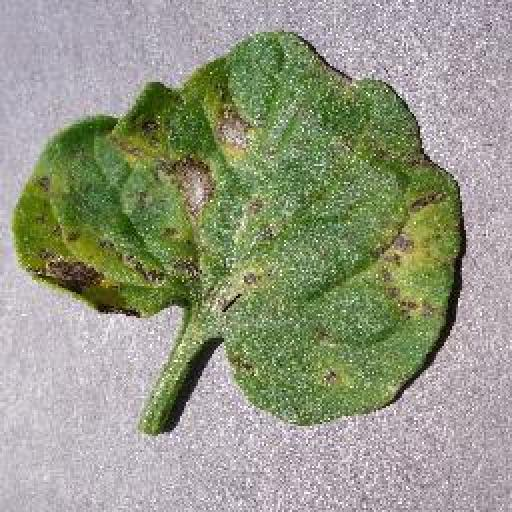Septoria: (18, 29, 464, 424)
